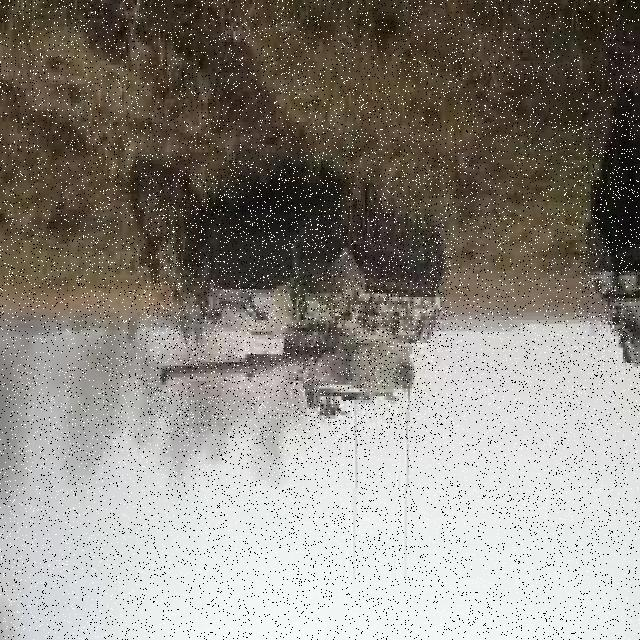MIL_MBT: (144, 170, 452, 440), (582, 119, 638, 370)
